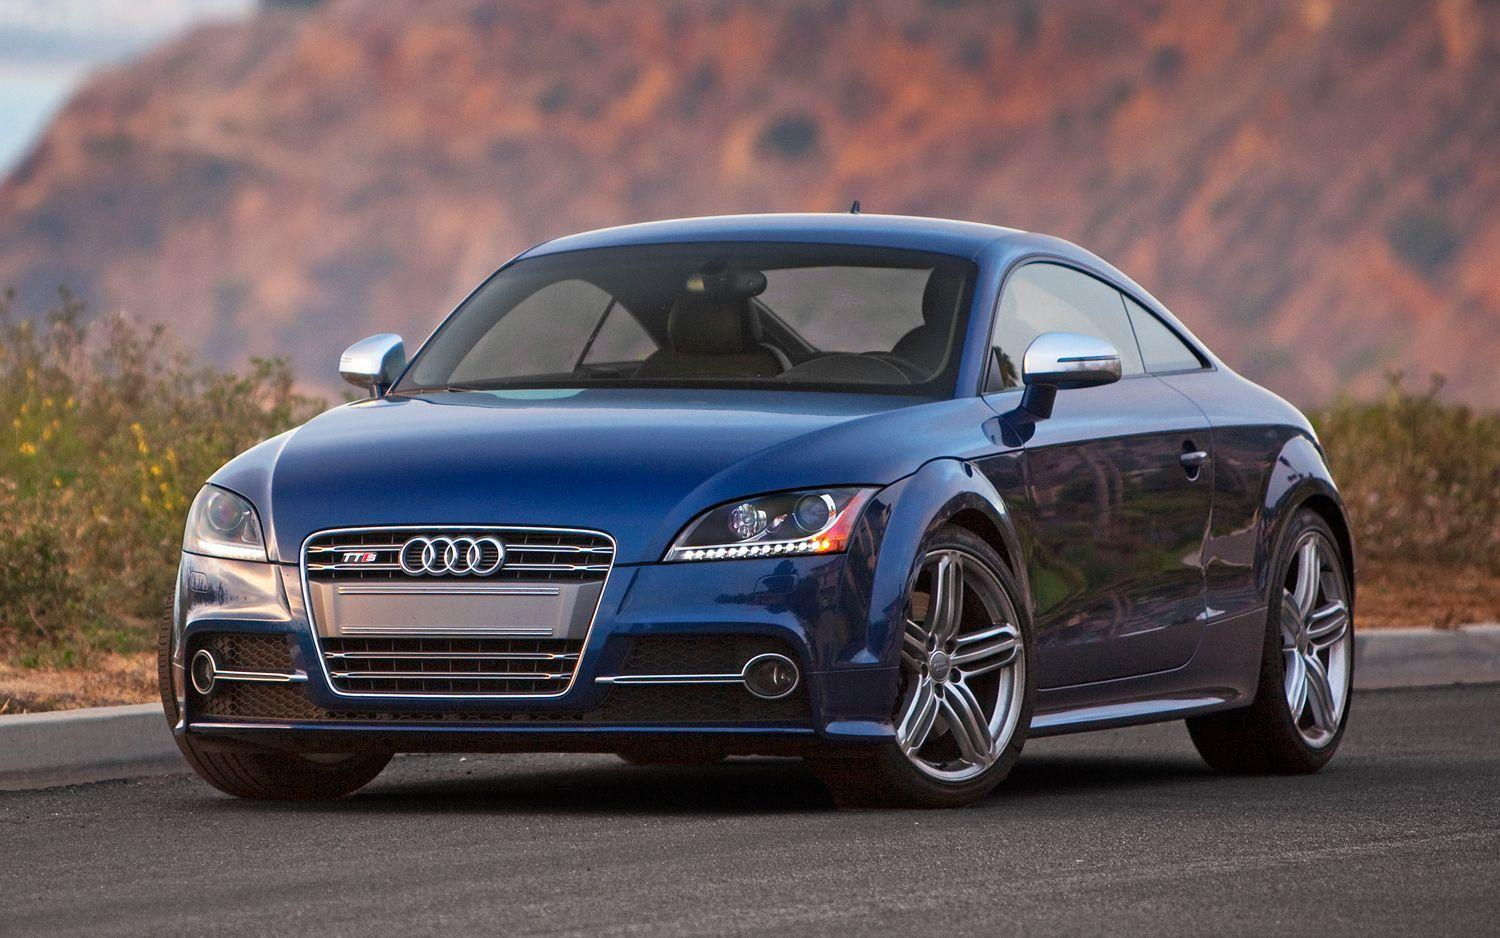Audi: (389, 524, 522, 592)
